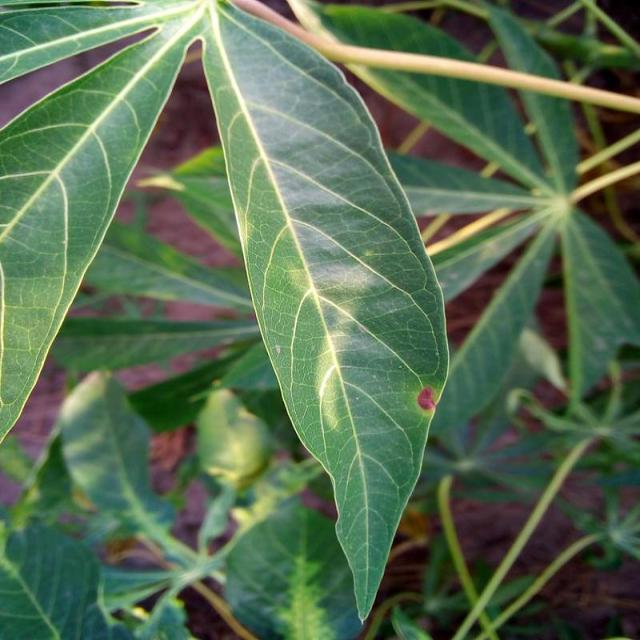cassava leaf: (200, 0, 450, 623)
